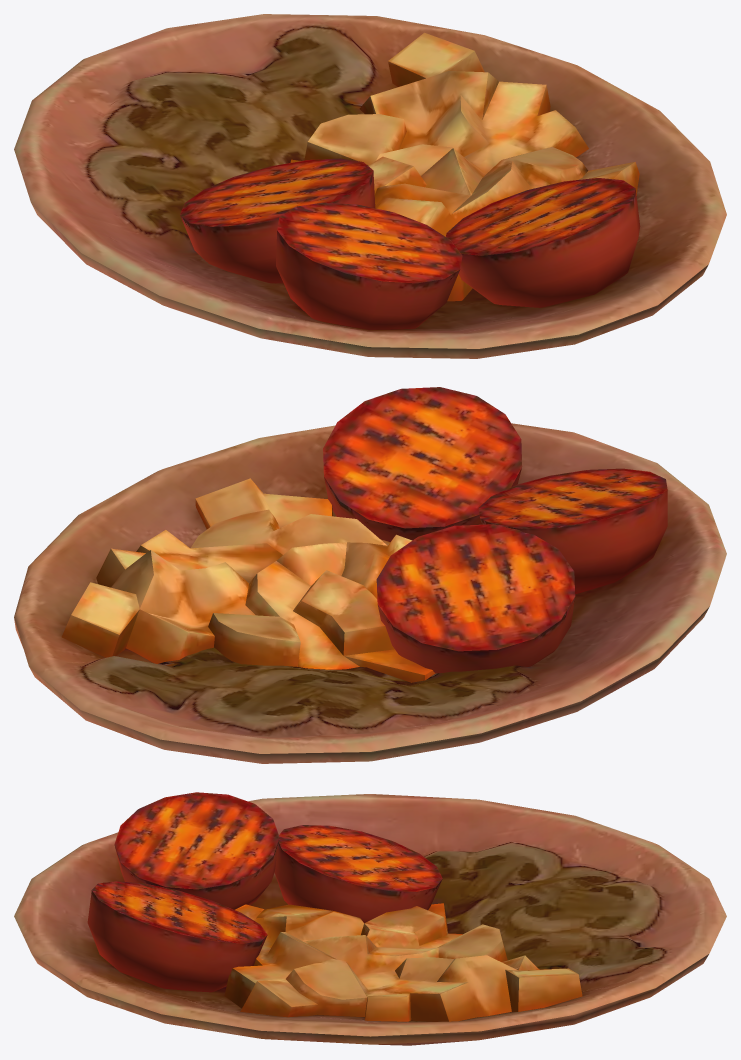
The picture shows the model from 3 angles, top to bottom: view 1: azimuth 30°, elevation 25°; view 2: azimuth 150°, elevation 25°; view 3: azimuth 270°, elevation 25°; orthographic projection. The views are drawn at different scales.
Parts seen in each view (by area): view 1: SM_Item_Food_Fryup_Vegan_LOD0; view 2: SM_Item_Food_Fryup_Vegan_LOD0; view 3: SM_Item_Food_Fryup_Vegan_LOD0.
Boxes of the visible parts, x1,y1,x2,y2 form: SM_Item_Food_Fryup_Vegan_LOD0: (14,14,726,358); SM_Item_Food_Fryup_Vegan_LOD0: (14,387,726,763); SM_Item_Food_Fryup_Vegan_LOD0: (14,792,726,1045).
Size of the model in its own units: 0.3578 by 0.0807 by 0.4454.
Materials: 1 (1 with a texture image).
